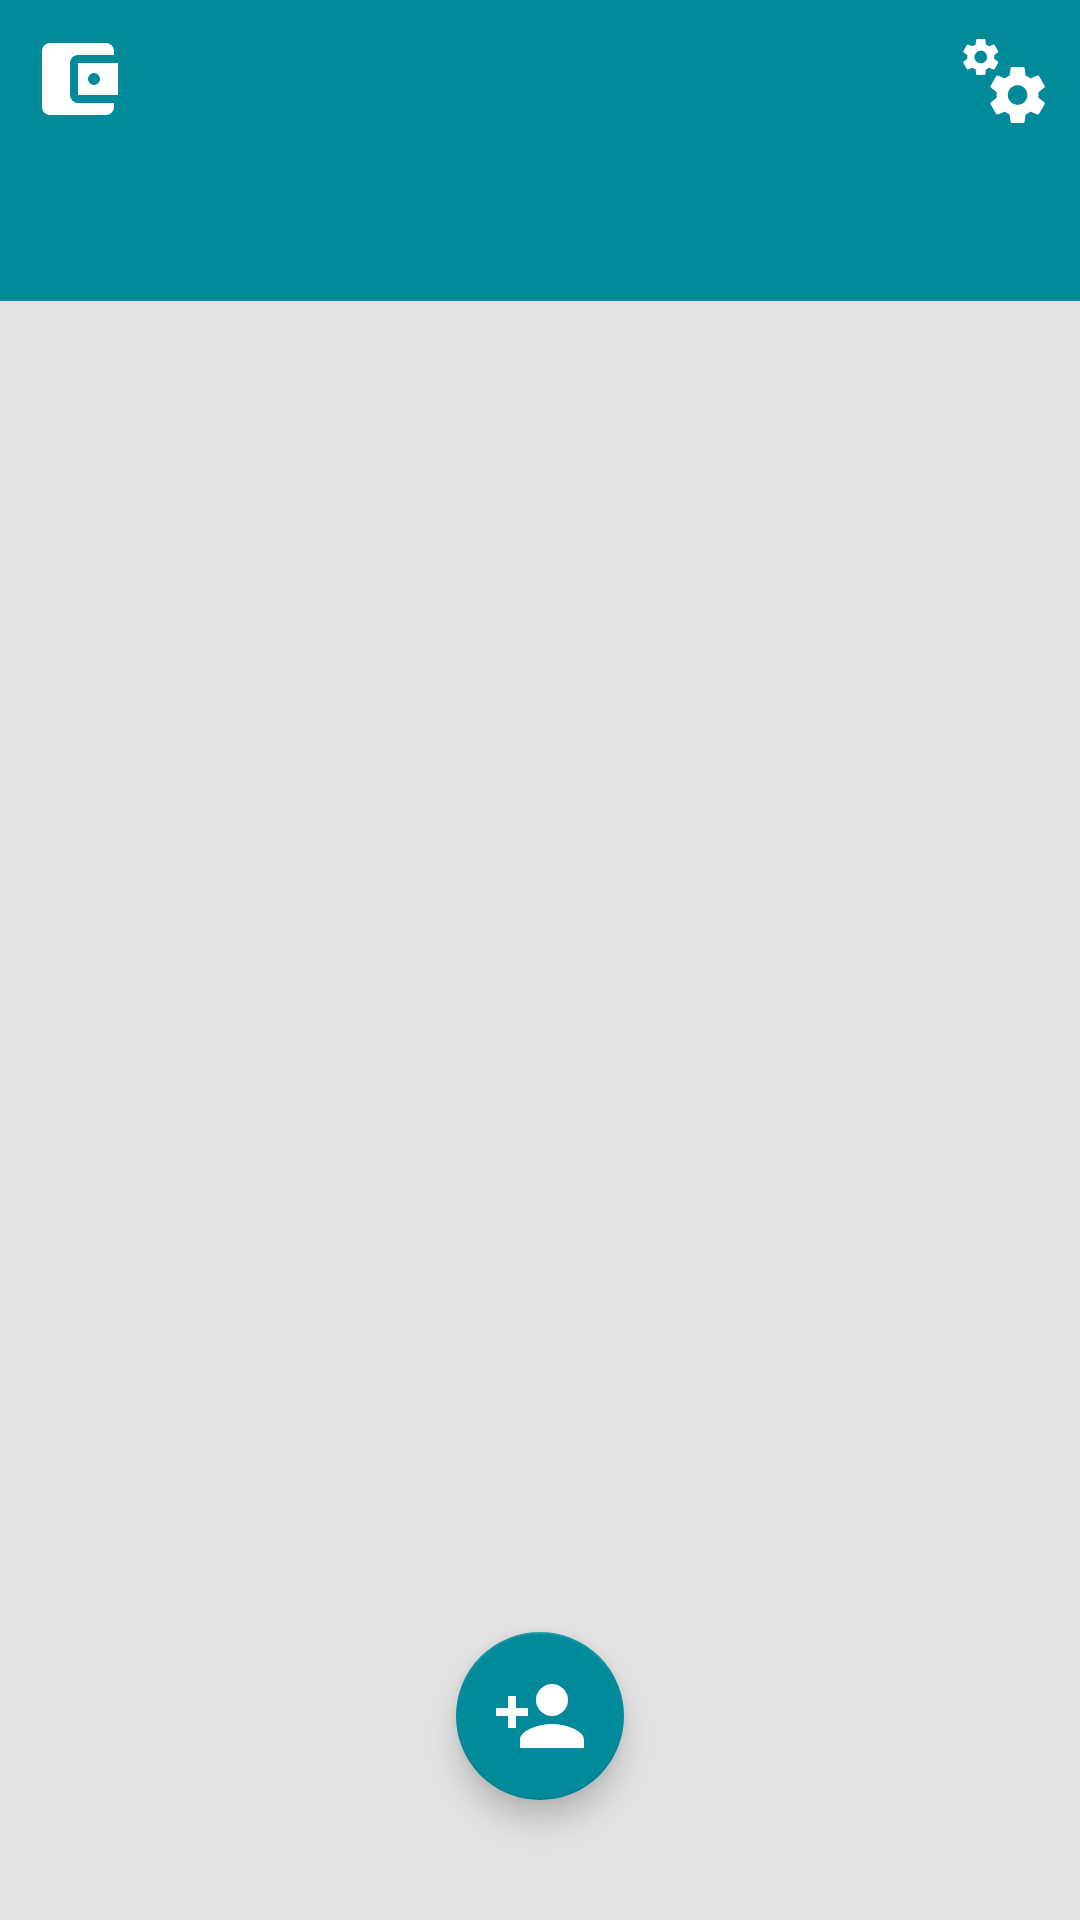

Screen size 1080w x 1920h. Icon name, then its box in pixels as bbox=[x1, y1, x2, y2]:
Setting Image: bbox=[963, 39, 1045, 123]
Total Amount Image: bbox=[42, 43, 118, 115]
